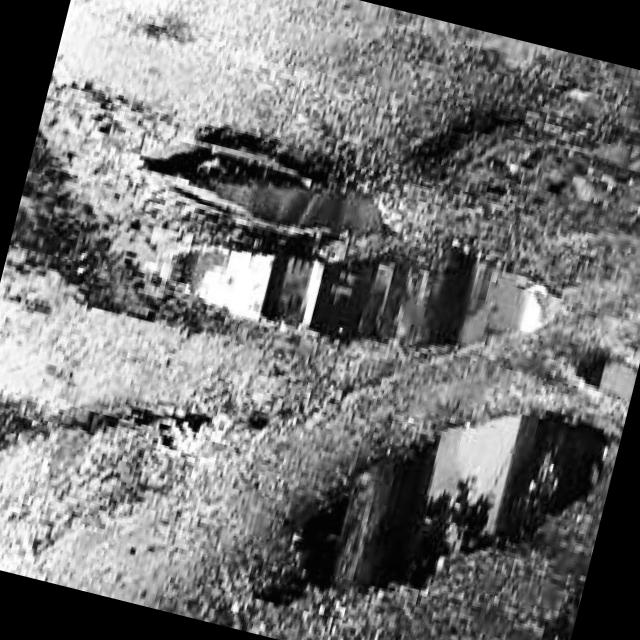Pothole: (238, 341, 624, 640), (121, 168, 581, 402), (399, 80, 640, 265), (135, 102, 412, 258), (545, 325, 640, 414)
